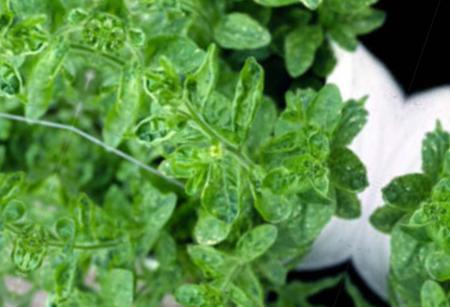Tomato leaf mosaic virus: (186, 142, 259, 233), (221, 51, 277, 141), (226, 213, 285, 280), (304, 118, 339, 165), (293, 0, 338, 14)
